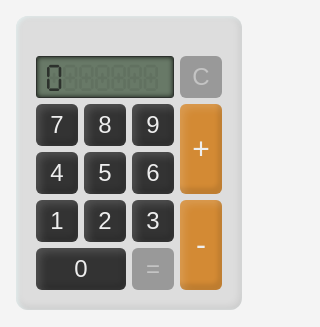
Scenario: inputs work as expected › pushing clear button resets to 0
The image size is (320, 327).
Click the button "7". click: (57, 125)
box: [36,104,78,146]
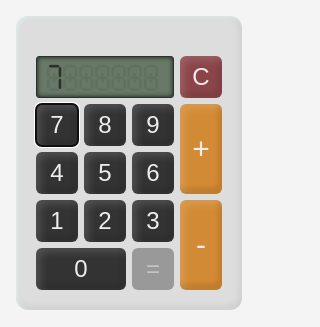
Click the button "7". click: (57, 125)
box: [36,104,78,146]
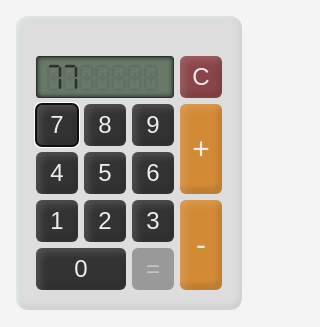
Expected: the field holds "77", [47,56,163,98]
Click the button "C". click: (201, 77)
box: [180,56,222,98]
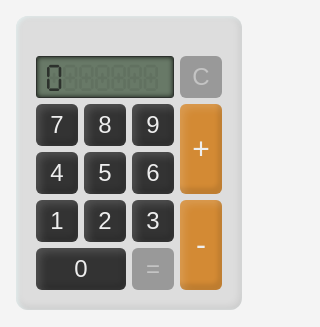
Expected: the field holds "0", [47,56,163,98]
